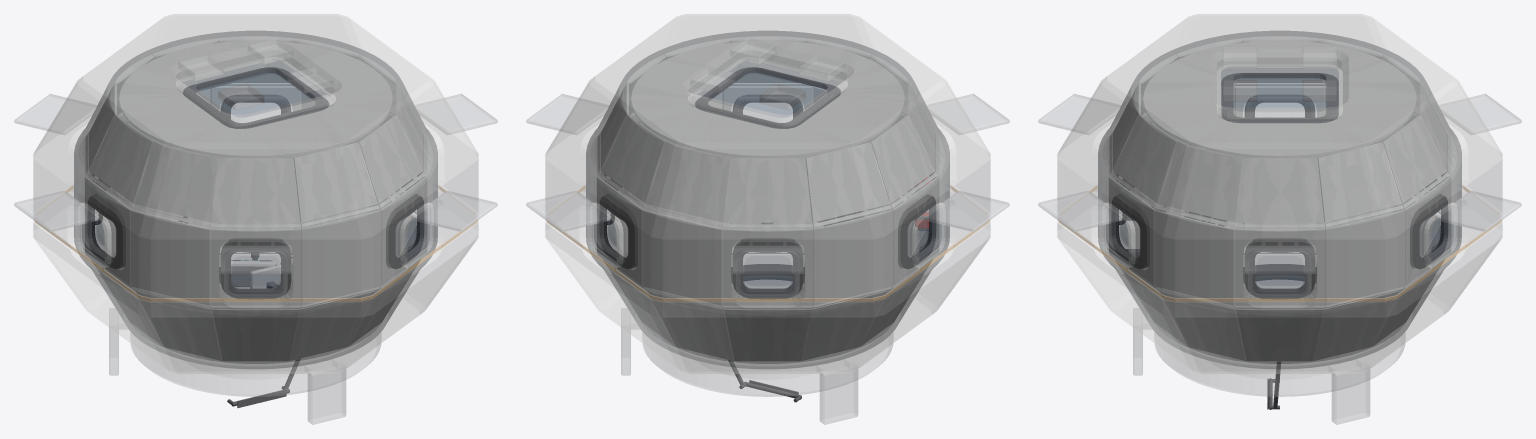
File: ax_station_05_cupola_combined.glb
3 views of the same model, side by side, from view 1: azimuth 30°, elevation 25°; view 2: azimuth 150°, elevation 25°; view 3: azimuth 270°, elevation 25° (orthographic).
Parts seen in each view (by area): view 1: ext_pressure_hull, pressure_vessel, end_cap_panel, panel_b3_f07, panel_b3_f09, ext_port_bottom, panel_b5_f08, ext_top_window_glass, panel_b5_f07, panel_b5_f09, ext_window_glass, panel_b1_f08 (+34 smaller); view 2: ext_pressure_hull, pressure_vessel, end_cap_panel, panel_b3_f03, panel_b3_f05, ext_port_bottom, panel_b5_f04, panel_b5_f05, panel_b5_f03, ext_top_window_glass, ext_window_glass, panel_b1_f04 (+33 smaller); view 3: ext_pressure_hull, pressure_vessel, end_cap_panel, panel_b3_f01, panel_b3_f11, ext_port_bottom, panel_b5_f00, ext_top_window_glass, panel_b5_f01, panel_b5_f11, ext_window_glass, panel_b1_f00 (+33 smaller).
Part boxes in pixels (bbox=[...]): ext_pressure_hull: bbox=[33, 14, 478, 373]; pressure_vessel: bbox=[74, 31, 437, 368]; end_cap_panel: bbox=[119, 41, 392, 157]; panel_b3_f07: bbox=[131, 210, 210, 305]; panel_b3_f09: bbox=[301, 210, 380, 305]; ext_port_bottom: bbox=[130, 332, 381, 396]; panel_b5_f08: bbox=[212, 158, 299, 222]; ext_top_window_glass: bbox=[179, 61, 333, 127]; panel_b5_f07: bbox=[134, 142, 218, 222]; panel_b5_f09: bbox=[293, 142, 377, 222]; ext_window_glass: bbox=[81, 203, 430, 296]; panel_b1_f08: bbox=[212, 309, 299, 360]; ext_pressure_hull: bbox=[545, 14, 990, 373]; pressure_vessel: bbox=[586, 31, 949, 368]; end_cap_panel: bbox=[631, 41, 904, 157]; panel_b3_f03: bbox=[643, 210, 722, 305]; panel_b3_f05: bbox=[813, 210, 892, 305]; ext_port_bottom: bbox=[642, 332, 893, 396]; panel_b5_f04: bbox=[724, 158, 811, 222]; panel_b5_f05: bbox=[805, 142, 889, 222]; panel_b5_f03: bbox=[646, 142, 730, 222]; ext_top_window_glass: bbox=[690, 61, 844, 127]; ext_window_glass: bbox=[593, 203, 942, 296]; panel_b1_f04: bbox=[724, 309, 811, 360]; ext_pressure_hull: bbox=[1057, 14, 1502, 373]; pressure_vessel: bbox=[1098, 31, 1461, 368]; end_cap_panel: bbox=[1143, 41, 1416, 157]; panel_b3_f01: bbox=[1325, 210, 1404, 305]; panel_b3_f11: bbox=[1155, 210, 1234, 305]; ext_port_bottom: bbox=[1154, 332, 1405, 396]; panel_b5_f00: bbox=[1236, 158, 1323, 222]; ext_top_window_glass: bbox=[1218, 67, 1341, 120]; panel_b5_f01: bbox=[1317, 142, 1401, 222]; panel_b5_f11: bbox=[1158, 142, 1242, 222]; ext_window_glass: bbox=[1105, 203, 1454, 296]; panel_b1_f00: bbox=[1236, 309, 1323, 360].
Size of the model in its own units: 3.3 by 2.31 by 3.08.
